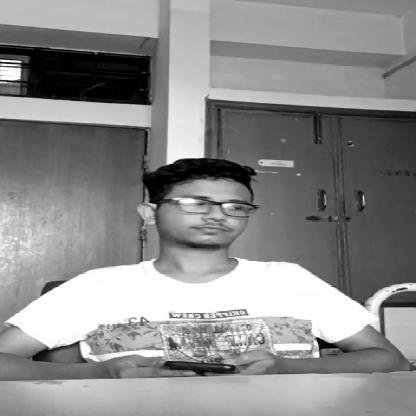Normal: (147, 160, 254, 250)
